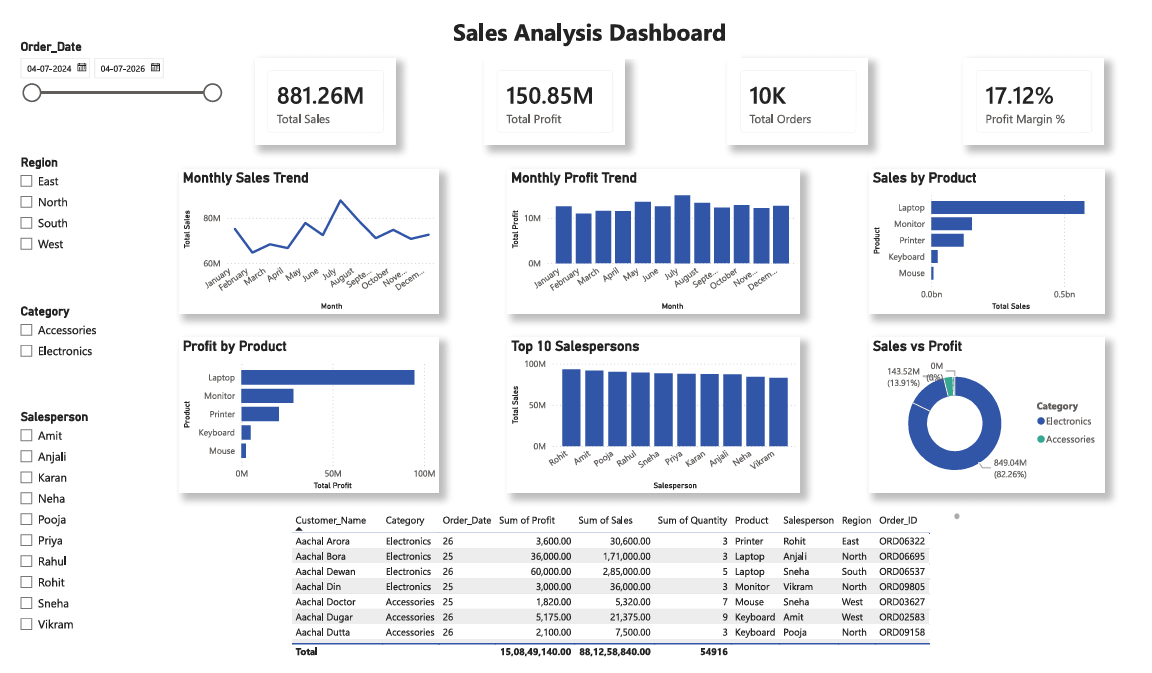

The dashboard page shown, as its layout file describes it:
{"tool":"powerbi","page":{"name":"Sales Analysis","canvas":[1600,900],"ordinal":1},"visuals":[{"type":"cardVisual","fields":{"Data":["financial_analytics.Total Sales"]},"box":[337.5,64.4,195,120],"z":0},{"type":"cardVisual","fields":{"Data":["financial_analytics.Total Profit"]},"box":[655.6,64.4,195.6,120],"z":1000},{"type":"cardVisual","fields":{"Data":["financial_analytics.Total Orders"]},"box":[992.5,64.4,195,120],"z":2000},{"type":"cardVisual","fields":{"Data":["financial_analytics.Profit Margin %"]},"box":[1320,64.4,195,120],"z":3000},{"type":"slicer","fields":{"Values":["financial_analytics.Region"]},"box":[0,192.5,140,170],"z":4000},{"type":"slicer","fields":{"Values":["financial_analytics.Category"]},"box":[0,398.8,140,110],"z":5000},{"type":"slicer","fields":{"Values":["financial_analytics.Salesperson"]},"box":[0,545,140,332.5],"z":6000},{"type":"lineChart","title":"Monthly Sales Trend","fields":{"Y":["financial_analytics.Total Sales"],"Category":["financial_analytics.Order_Date.Variation.Date Hierarchy.Month"]},"box":[233.3,217.8,360,200],"z":7000},{"type":"clusteredColumnChart","title":"Monthly Profit Trend","fields":{"Y":["financial_analytics.Total Profit"],"Category":["financial_analytics.Order_Date.Variation.Date Hierarchy.Month"]},"box":[687.8,217.8,406.7,200],"z":8000},{"type":"clusteredBarChart","title":"Sales by Product","fields":{"Category":["financial_analytics.Product"],"Y":["financial_analytics.Total Sales"]},"box":[1188.9,217.8,326.7,200],"z":9000},{"type":"clusteredBarChart","title":"Profit by Product","fields":{"Category":["financial_analytics.Product"],"Y":["financial_analytics.Total Profit"]},"box":[233.3,451.1,360,215],"z":10000},{"type":"clusteredColumnChart","title":"Top 10 Salespersons","fields":{"Category":["financial_analytics.Salesperson"],"Y":["financial_analytics.Total Sales"]},"box":[687.8,451.1,406.7,215],"z":11000},{"type":"donutChart","title":"Sales vs Profit","fields":{"Y":["financial_analytics.Total Sales","financial_analytics.Total Profit","financial_analytics.Total Quantity"],"Category":["financial_analytics.Category"]},"box":[1188.9,451.1,326.7,215],"z":12000},{"type":"tableEx","fields":{"Values":["financial_analytics.Customer_Name","financial_analytics.Category","financial_analytics.Order_Date","Sum(financial_analytics.Profit)","Sum(financial_analytics.Sales)","Sum(financial_analytics.Quantity)","financial_analytics.Product","financial_analytics.Salesperson","financial_analytics.Region","financial_analytics.Order_ID"]},"box":[382.5,687.5,937.5,212.5],"z":13000},{"type":"slicer","fields":{"Values":["financial_analytics.Order_Date"]},"box":[0,32.5,300,167.5],"z":14000},{"type":"textbox","box":[592.5,0,417.5,65],"z":15000}]}

Visuals, with their boxes on the page's 1600x900 design canvas (x1, y1, x2, y2). These are canvas units, not pixel positions in the 1152x673 screenshot, which may show the page scaled, cropped or inside an application window:
cardVisual - financial_analytics.Total Sales: <box>338,64,532,184</box>
cardVisual - financial_analytics.Total Profit: <box>656,64,851,184</box>
cardVisual - financial_analytics.Total Orders: <box>992,64,1188,184</box>
cardVisual - financial_analytics.Profit Margin %: <box>1320,64,1515,184</box>
slicer - financial_analytics.Region: <box>0,192,140,362</box>
slicer - financial_analytics.Category: <box>0,399,140,509</box>
slicer - financial_analytics.Salesperson: <box>0,545,140,878</box>
"Monthly Sales Trend" lineChart: <box>233,218,593,418</box>
"Monthly Profit Trend" clusteredColumnChart: <box>688,218,1094,418</box>
"Sales by Product" clusteredBarChart: <box>1189,218,1516,418</box>
"Profit by Product" clusteredBarChart: <box>233,451,593,666</box>
"Top 10 Salespersons" clusteredColumnChart: <box>688,451,1094,666</box>
"Sales vs Profit" donutChart: <box>1189,451,1516,666</box>
tableEx - financial_analytics.Customer_Name x financial_analytics.Category: <box>382,688,1320,900</box>
slicer - financial_analytics.Order_Date: <box>0,32,300,200</box>
textbox: <box>592,0,1010,65</box>
